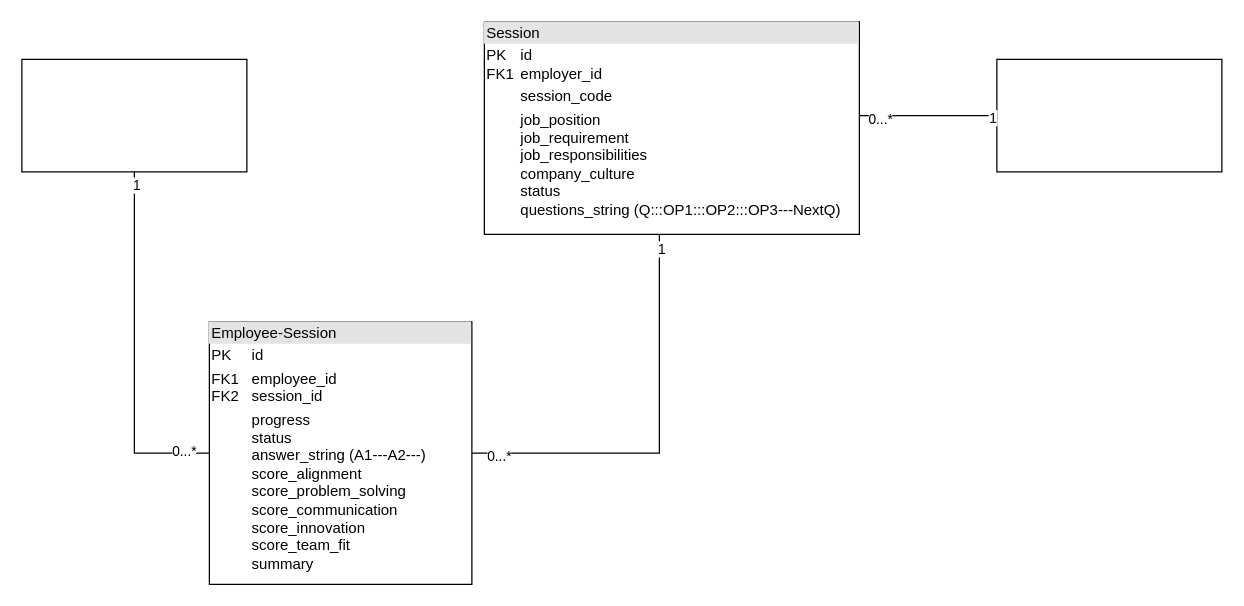
Some shapes in this 1244 by 606 pixel diagram are drawn without their labels. The shapes that lost their labels are listed below. From the top down, each one's centre as x and y in pixels, then its label:
At (x=134, y=115): "Employee PK id email full_name password".
At (x=1109, y=115): "Employer PK id email company_name password".
